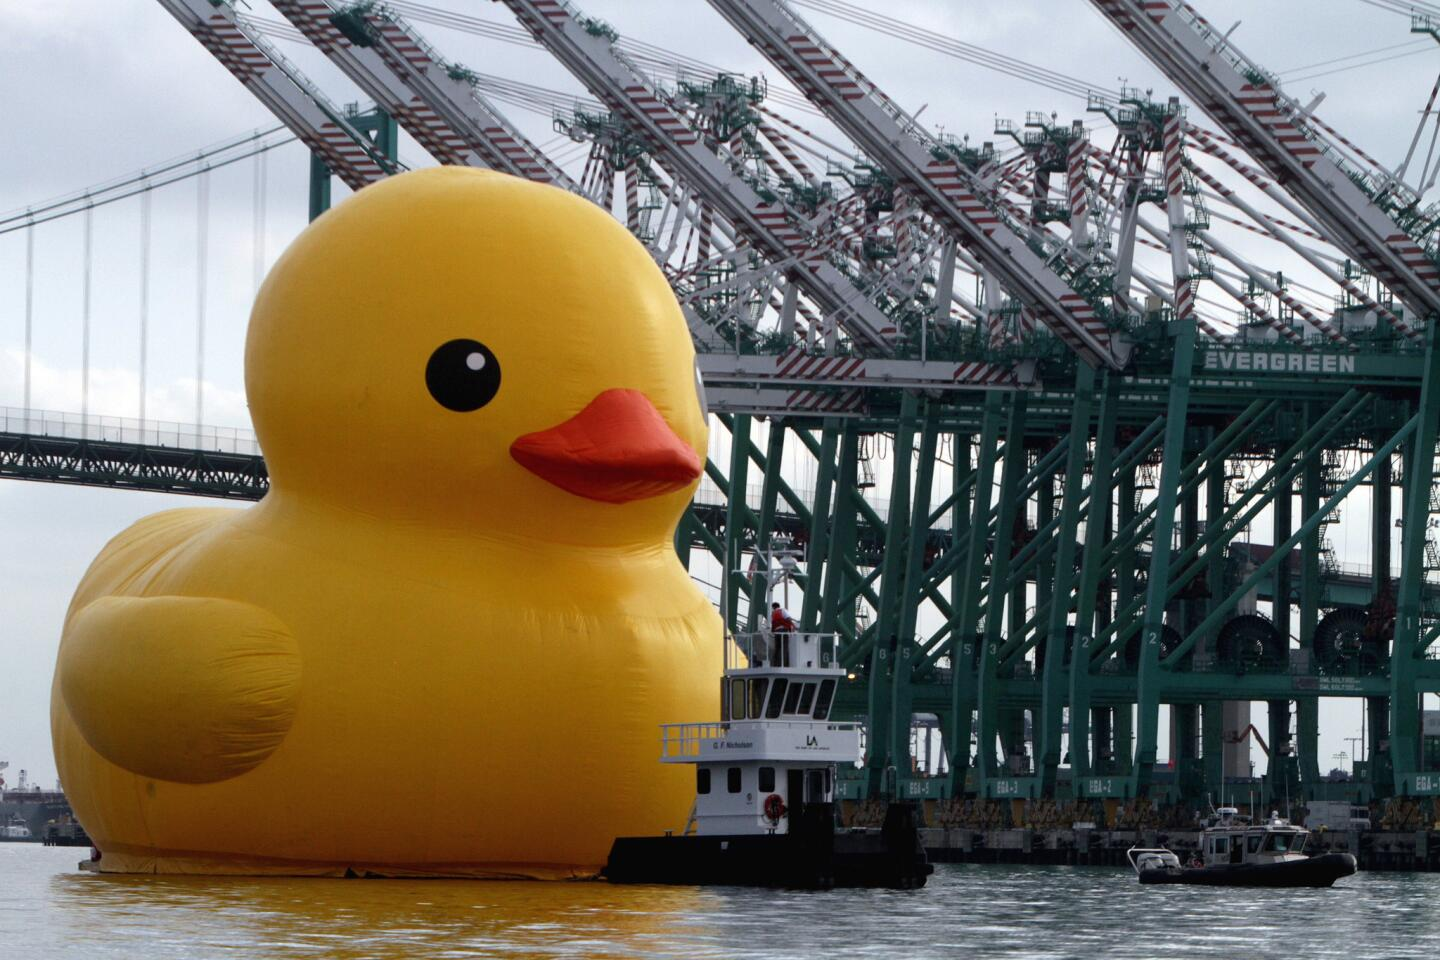duck_regular: (37, 162, 757, 906)
